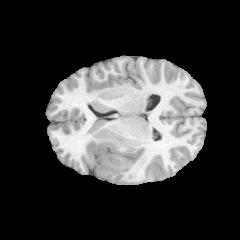glioma: (89, 137, 134, 176)
